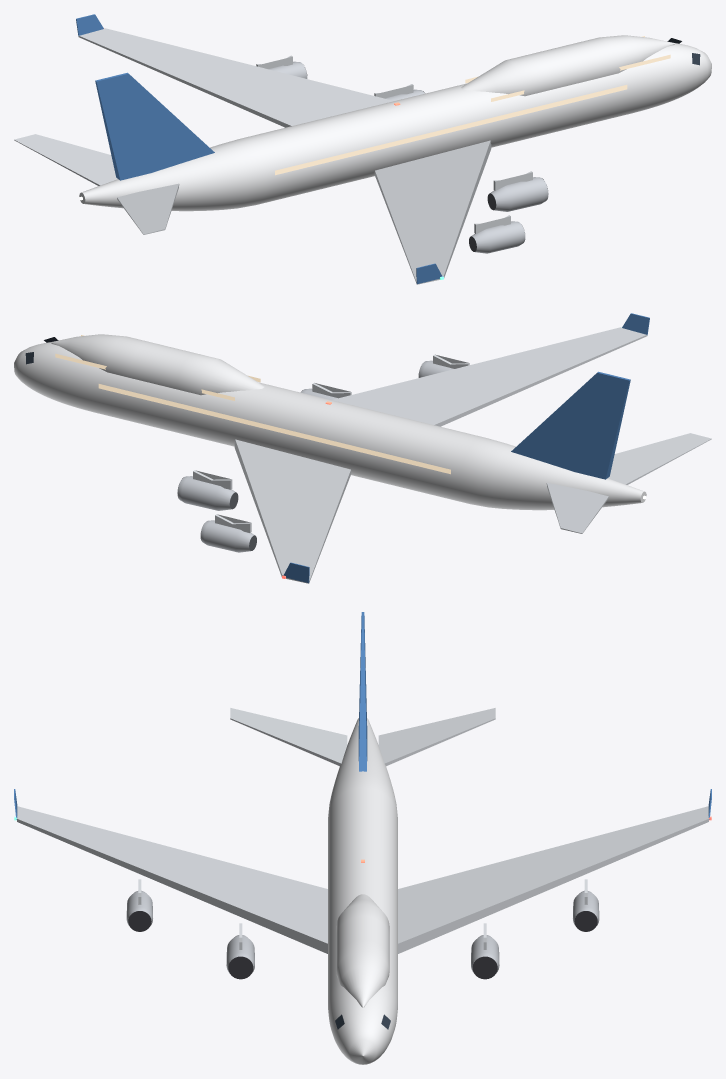
The model's file is jumbo.glb.
3 renders of one model, top to bottom at view 1: azimuth 30°, elevation 25°; view 2: azimuth 150°, elevation 25°; view 3: azimuth 270°, elevation 25°, orthographic. The views are drawn at different scales.
Parts seen in each view (by area): view 1: main; view 2: main; view 3: main.
Boxes of the visible parts, box(x1,y1,x2,y2) form: main: box(14, 14, 711, 284); main: box(14, 313, 711, 583); main: box(14, 612, 711, 1064).
Bounding box in the file's own units: 70.39 × 18.25 × 65.7.
